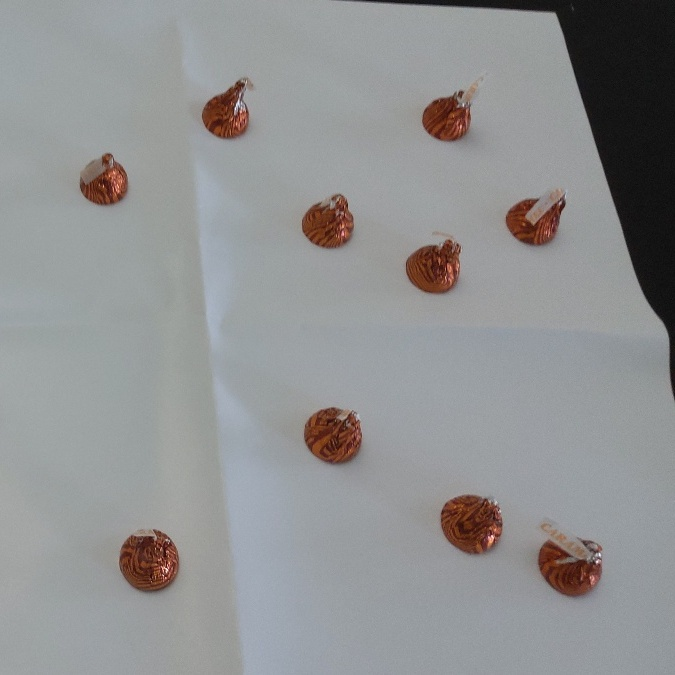chocolate_gold: (538, 529, 603, 600), (115, 522, 180, 593), (303, 401, 368, 471), (437, 485, 501, 556), (407, 236, 461, 295), (420, 85, 474, 144), (75, 152, 128, 211), (199, 81, 252, 140), (303, 192, 356, 251), (507, 192, 560, 251)
